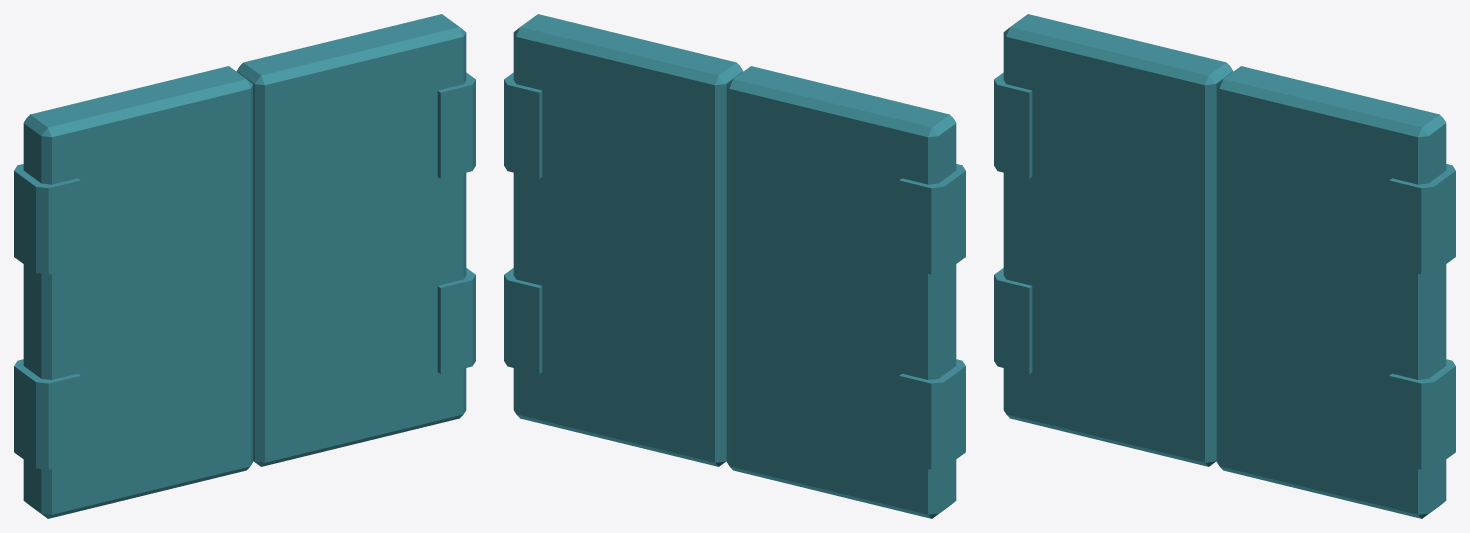
File: door.fbx
3 views of the same model, side by side, from view 1: azimuth 30°, elevation 25°; view 2: azimuth 150°, elevation 25°; view 3: azimuth 330°, elevation 25° (orthographic).
Parts seen in each view (by area): view 1: polySurface171, polySurface170; view 2: polySurface171, polySurface170; view 3: polySurface170, polySurface171.
Boxes of the visible parts, <box> form: polySurface171: <box>14,66,253,518</box>; polySurface170: <box>236,14,475,466</box>; polySurface171: <box>726,66,965,518</box>; polySurface170: <box>504,14,743,466</box>; polySurface170: <box>1216,66,1455,518</box>; polySurface171: <box>994,14,1233,466</box>.
Size of the model in its own units: 10.44 by 8.87 by 1.29.
Materials: 1 (1 with a texture image).
